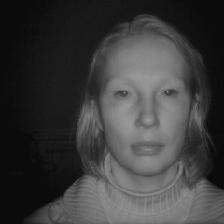normal: (83, 20, 210, 173)
